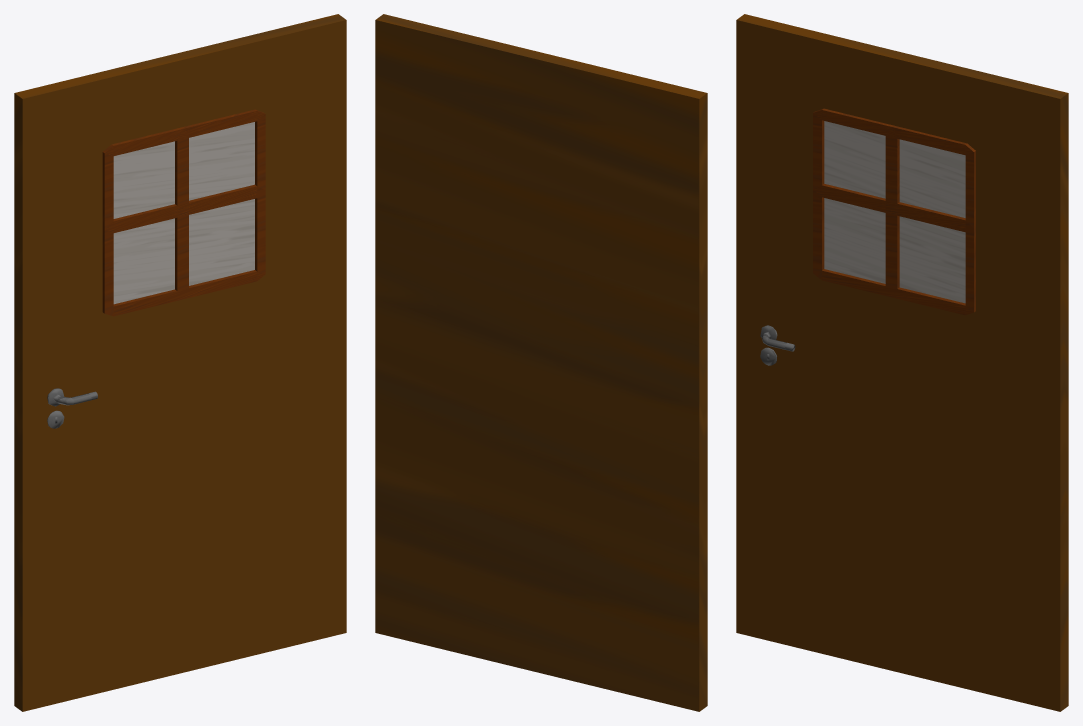
Rendered from Door.fbx.
The picture shows the model from 3 angles, left to right: view 1: azimuth 30°, elevation 25°; view 2: azimuth 150°, elevation 25°; view 3: azimuth 330°, elevation 25°; orthographic projection.
Parts seen in each view (by area): view 1: Ovi; view 2: Ovi; view 3: Ovi.
Boxes of the visible parts, x1,y1,x2,y2 form: Ovi: [14, 14, 346, 711]; Ovi: [375, 14, 707, 711]; Ovi: [736, 14, 1068, 711].
Size of the model in its own units: 152 by 275 by 14.96.
4 materials, 4 textured.
